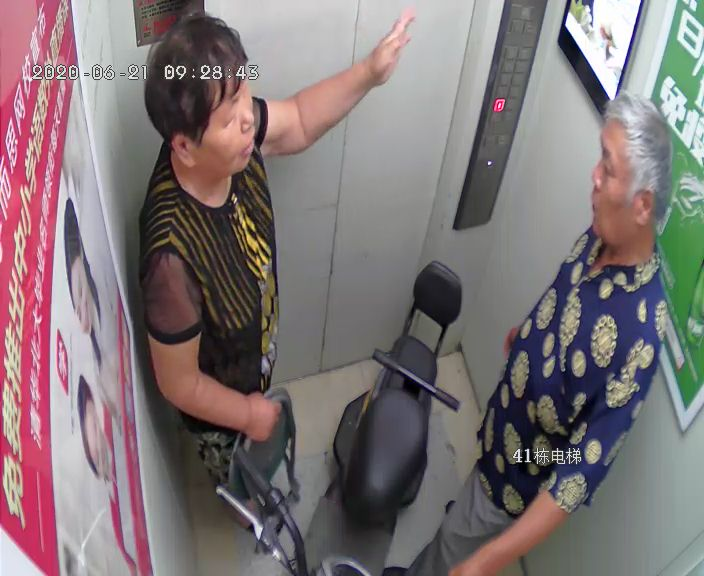Electric-bicycle: (218, 260, 462, 576)
